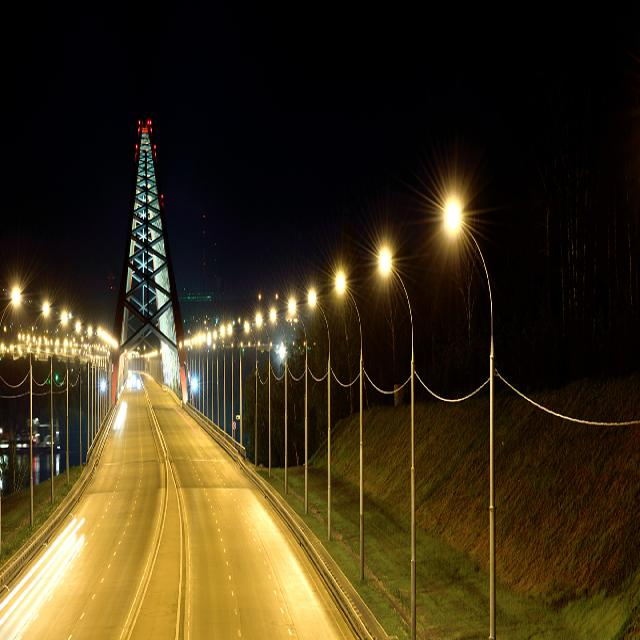Street Light: (444, 200, 495, 640), (379, 248, 417, 640), (335, 273, 365, 584), (308, 288, 332, 542), (1, 289, 22, 548), (30, 303, 49, 523), (290, 298, 308, 514), (51, 312, 69, 498), (270, 307, 286, 496), (254, 312, 270, 473), (67, 321, 81, 485), (227, 323, 244, 445), (244, 322, 258, 467), (220, 325, 227, 431), (87, 326, 92, 454)
